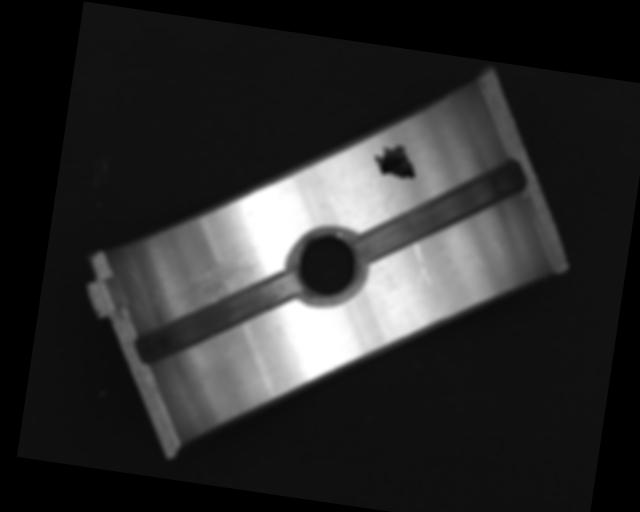blot: (370, 141, 419, 180)
gap: (356, 141, 527, 283), (129, 254, 301, 384)
hole: (284, 222, 369, 312)
nick: (407, 239, 438, 291)
scratch: (165, 248, 259, 323)
